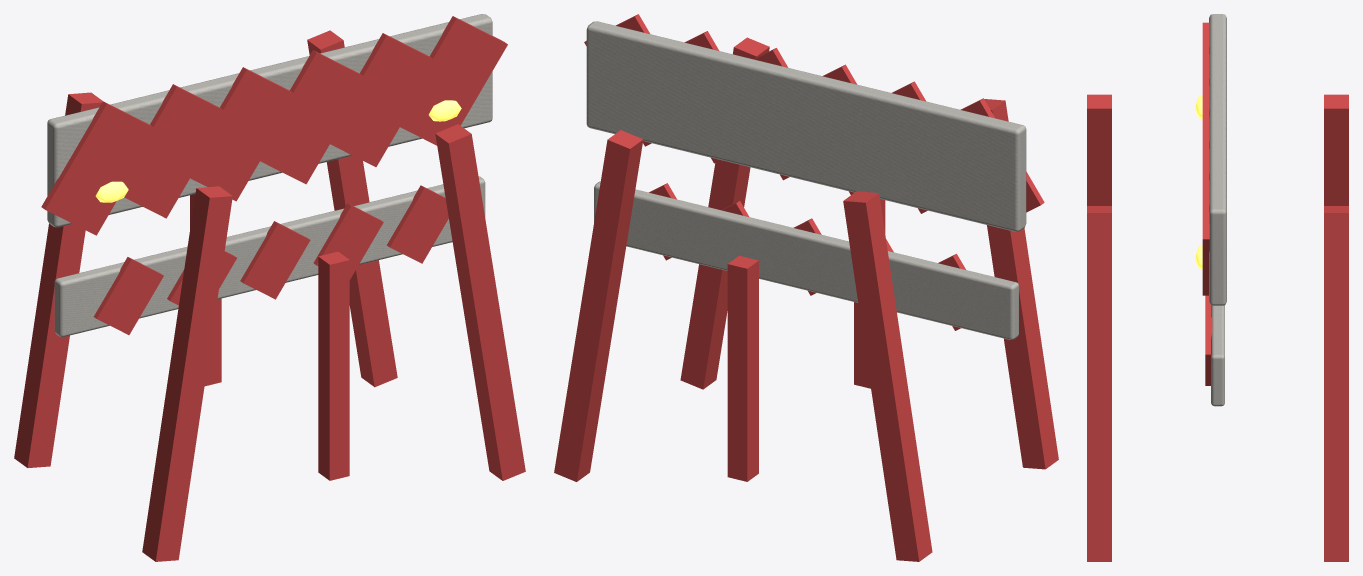
The model's file is halloween-slasher-street-police-barricade-sawhorse-f7c7f701__27316.glb.
The picture shows the model from 3 angles, left to right: view 1: azimuth 30°, elevation 25°; view 2: azimuth 150°, elevation 25°; view 3: azimuth 270°, elevation 25°; orthographic projection. The views are drawn at different scales.
Parts seen in each view (by area): view 1: police-barricade-sawhorse; view 2: police-barricade-sawhorse; view 3: police-barricade-sawhorse.
Part boxes in pixels (box(x1,y1,x2,y2)): police-barricade-sawhorse: box(14, 14, 525, 561); police-barricade-sawhorse: box(554, 14, 1058, 561); police-barricade-sawhorse: box(1087, 14, 1348, 561).
Size of the model in its own units: 1.39 by 1.18 by 0.7365.
Materials: 3 (1 with a texture image).
